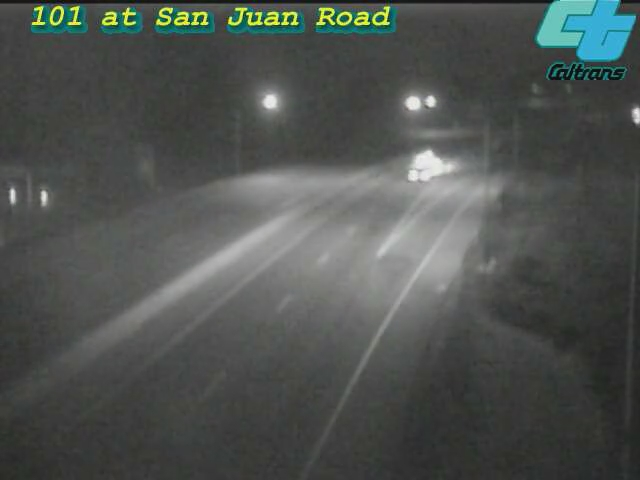vehicle: (387, 129, 467, 209)
